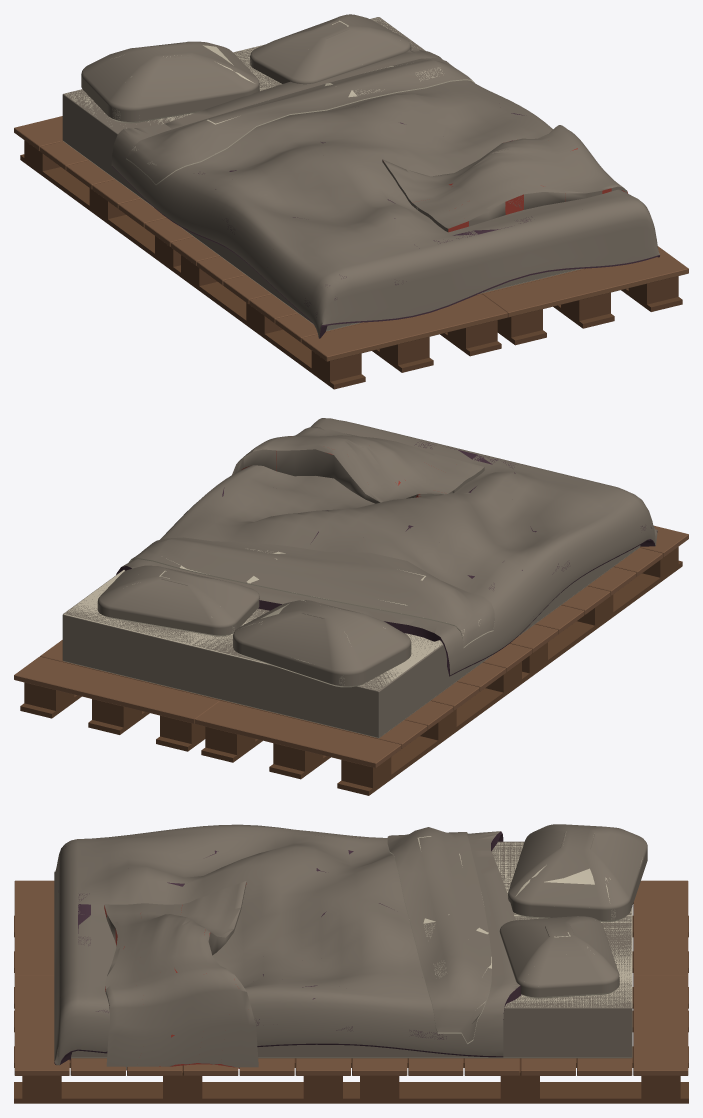
Rendered from pallet-bed-a17f8de1868f.glb.
The picture shows the model from 3 angles, top to bottom: view 1: azimuth 30°, elevation 25°; view 2: azimuth 150°, elevation 25°; view 3: azimuth 270°, elevation 25°; orthographic projection. The views are drawn at different scales.
Parts seen in each view (by area): view 1: cover-cloth, wood-walnut, wood-walnut-dark, cloth-cream, cloth-plum; view 2: cover-cloth, wood-walnut, wood-walnut-dark, cloth-cream, cloth-plum; view 3: cover-cloth, wood-walnut, wood-walnut-dark, cloth-cream, cloth-plum.
Part boxes in pixels (x1,y1,x2,y2): cover-cloth: (62, 14, 659, 338); wood-walnut: (14, 116, 688, 361); wood-walnut-dark: (20, 140, 682, 389); cloth-cream: (63, 17, 582, 331); cloth-plum: (112, 113, 659, 338); cover-cloth: (62, 418, 657, 737); wood-walnut: (14, 525, 688, 767); wood-walnut-dark: (20, 547, 682, 795); cloth-cream: (63, 547, 639, 738); cloth-plum: (116, 441, 657, 676); cover-cloth: (54, 824, 647, 1069); wood-walnut: (14, 880, 688, 1075); wood-walnut-dark: (14, 915, 688, 1103); cloth-cream: (71, 832, 642, 1058); cloth-plum: (54, 831, 521, 1064).
Size of the model in its own units: 1.6 by 0.5264 by 2.4.
